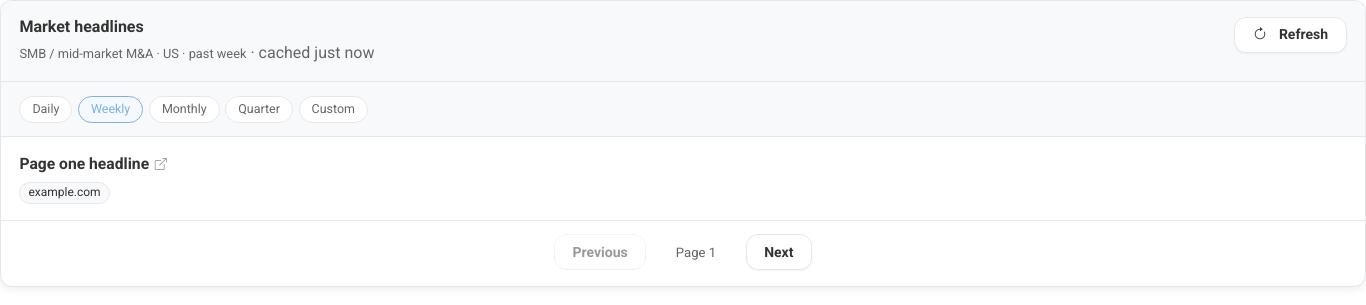
Test case: NewsFeedWidget › shows filters and paginates when query handlers provided
Expected: the element with test id "news-filters" is shown, 1,82 -> 1365,137
Expected: the link "Page one headline" is shown, 19,154 -> 167,173
Click the button with test id "news-next".
click(779, 252)  # box 746,234 -> 812,270
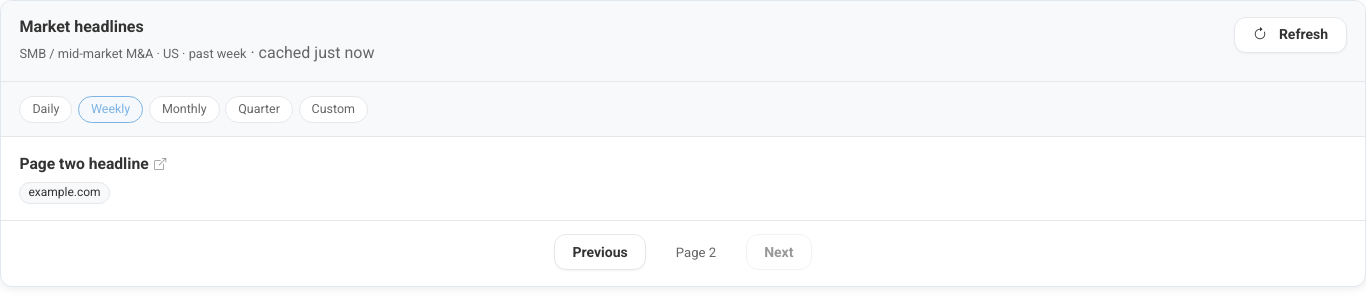
Result: the link "Page two headline" is shown at 19,154 -> 166,173
Result: the text with test id "news-page-label" reads "Page 2" at 676,245 -> 716,260
